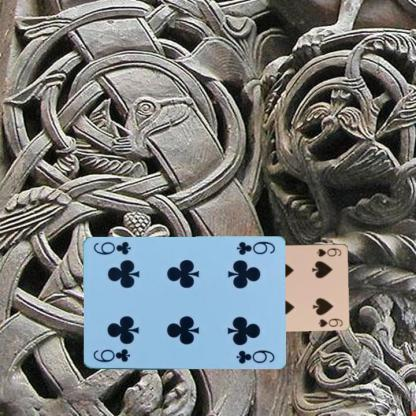6c: (233, 238, 276, 257), (90, 346, 131, 364)
6s: (314, 246, 343, 258)
